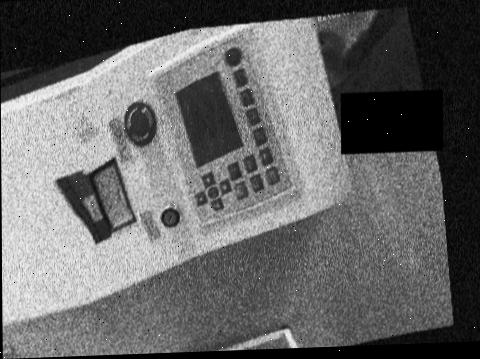Amp_Meter: (90, 159, 135, 231)
Display: (177, 71, 242, 165)
Down_button: (219, 178, 232, 194)
Emergency_Stop: (125, 100, 157, 145)
Enter_button: (235, 180, 248, 199)
Esc_button: (228, 161, 242, 179)
File_button: (259, 146, 273, 164)
Frame_button: (250, 173, 264, 191)
Left_button: (202, 171, 215, 186)
Max-Power_button: (253, 126, 267, 145)
Min-Power_button: (246, 106, 261, 124)
Origin_button: (243, 153, 258, 172)
Power_switch: (162, 207, 180, 225)
Pulse_button: (234, 67, 248, 86)
Reset_button: (226, 46, 241, 65)
Right_button: (211, 197, 224, 210)
Speed_button: (240, 87, 254, 105)
Start-Pause_button: (266, 166, 280, 184)
Up_button: (195, 190, 208, 205)
Z_U_button: (208, 186, 219, 197)
